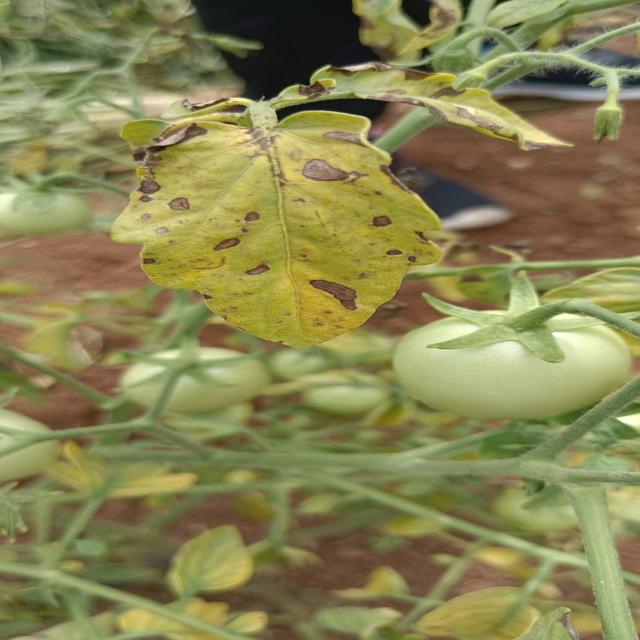tomato_early blight: (109, 101, 440, 347), (268, 62, 568, 149)
